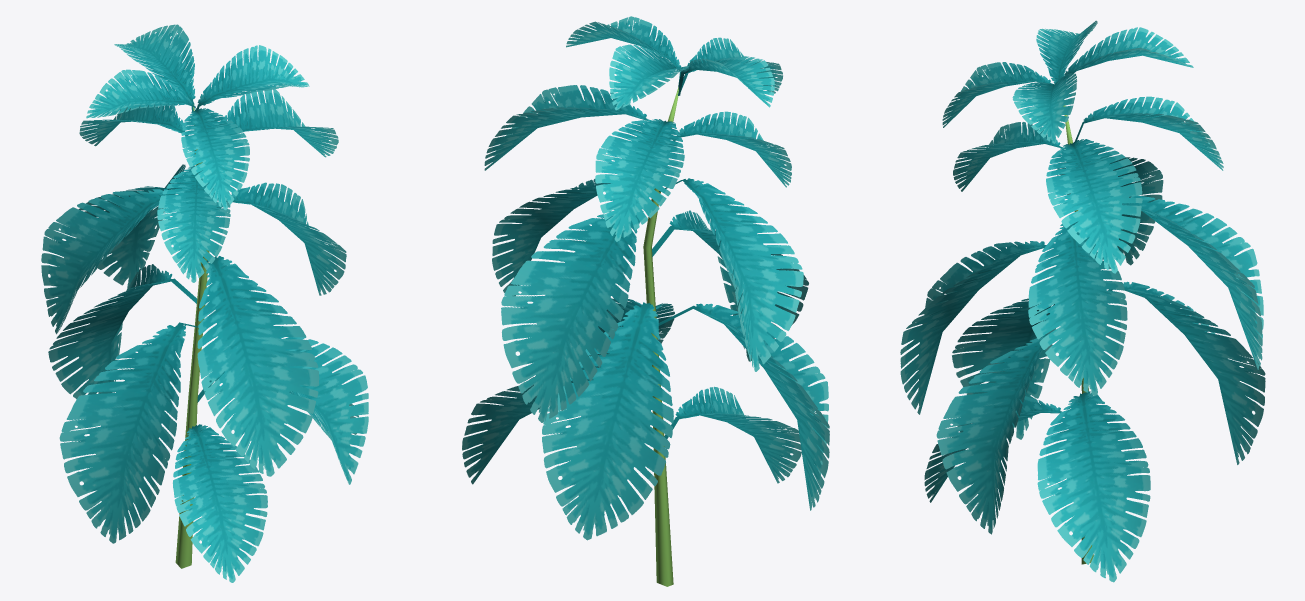
The model's file is SM_ENV_plant_ancient_03_02.fbx.
The picture shows the model from 3 angles, left to right: view 1: azimuth 30°, elevation 25°; view 2: azimuth 150°, elevation 25°; view 3: azimuth 270°, elevation 25°; orthographic projection. The views are drawn at different scales.
Visible parts, largest first — view 1: SM_ENV_plant_ancient_03_02_LOD0; view 2: SM_ENV_plant_ancient_03_02_LOD0; view 3: SM_ENV_plant_ancient_03_02_LOD0.
Boxes of the visible parts, bbox=[...] form: SM_ENV_plant_ancient_03_02_LOD0: bbox=[41, 24, 368, 582]; SM_ENV_plant_ancient_03_02_LOD0: bbox=[462, 16, 829, 586]; SM_ENV_plant_ancient_03_02_LOD0: bbox=[900, 20, 1265, 582].
Bounding box in the file's own units: 74.34 × 106 × 75.57.
